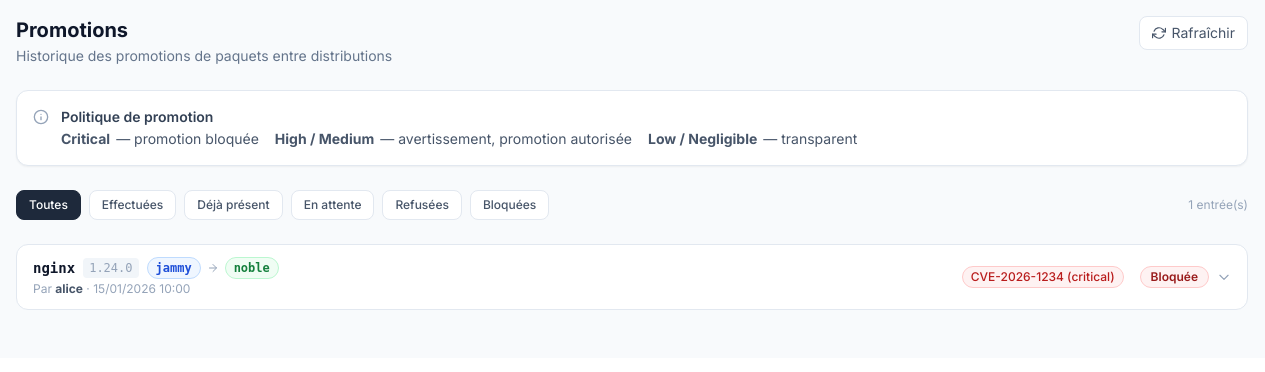
Test: PromotionsPage — détail des alertes CVE › déplie la ligne et affiche les CVE bloquantes
Click the text "nginx" at (54, 268), box [33,258,75,278]
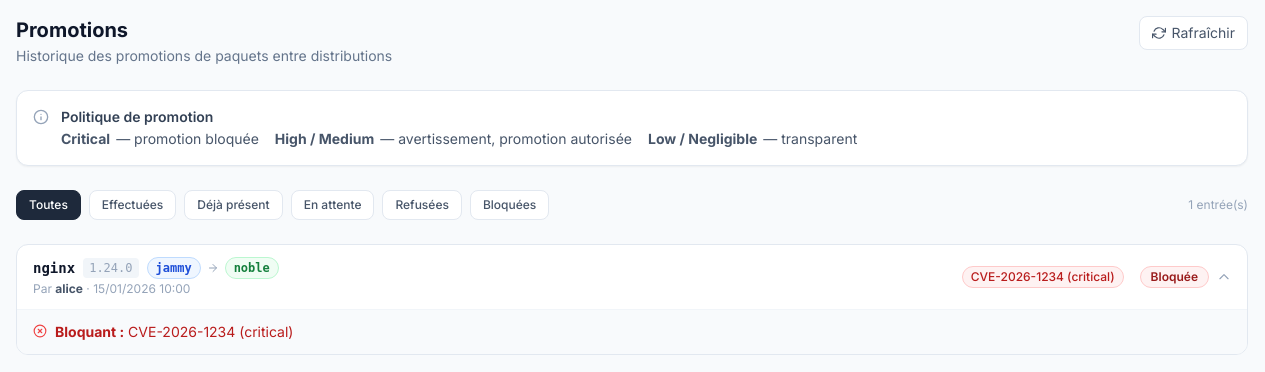
Expected: the text "CVE-2026-1234 (critical)" is shown, [962,266,1124,288]
Now the text "Bloquant :" is shown, box [55,323,124,340]
